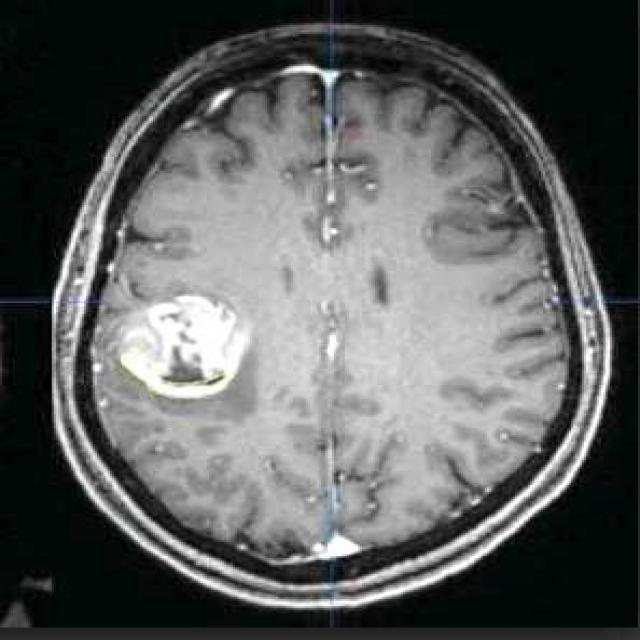Tumor: (123, 297, 247, 397)
